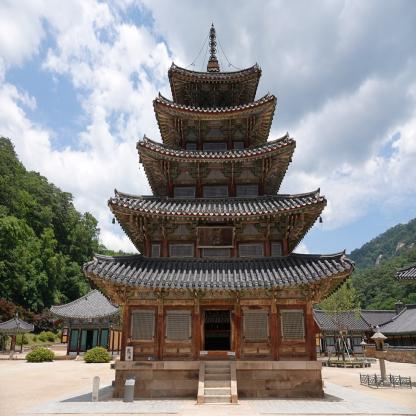Building Outline: (82, 23, 355, 403)
Door: (205, 311, 232, 351)
Facade: (175, 72, 254, 398)
Floor: (145, 209, 290, 267), (168, 160, 267, 202), (175, 115, 261, 153)
Floor Slab: (116, 361, 323, 370), (116, 267, 323, 275), (145, 202, 290, 209), (168, 153, 267, 159), (175, 109, 261, 115)
Raised Floor: (124, 275, 313, 361)
Roof: (108, 187, 327, 257), (82, 249, 355, 302), (135, 132, 297, 196), (152, 91, 277, 146), (168, 61, 262, 106)
Top Floor: (191, 83, 242, 108)
Window: (130, 310, 155, 342), (166, 310, 191, 342), (280, 310, 305, 342), (244, 311, 269, 342), (204, 186, 228, 197), (170, 245, 193, 256), (239, 245, 262, 256), (203, 248, 230, 257), (174, 186, 196, 197), (237, 186, 258, 197), (204, 144, 227, 150), (272, 245, 280, 256), (152, 245, 160, 256), (187, 142, 197, 150), (235, 142, 244, 149)
